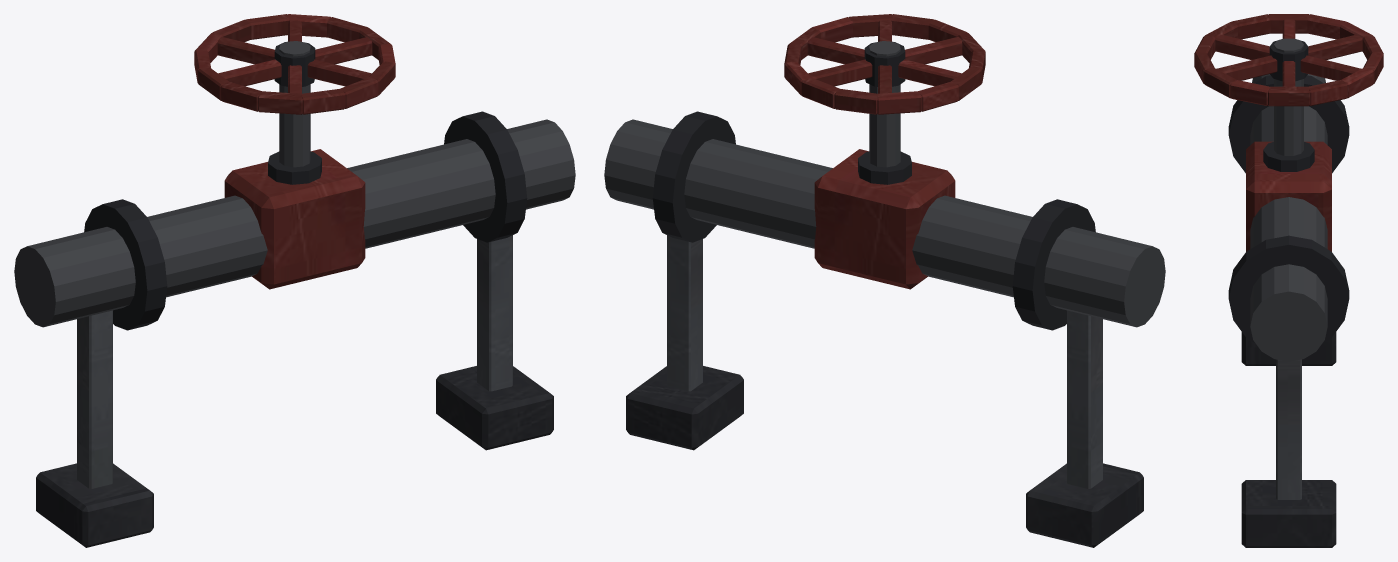
Rendered from valve_wheel.glb.
3 renders of one model, left to right at view 1: azimuth 30°, elevation 25°; view 2: azimuth 150°, elevation 25°; view 3: azimuth 270°, elevation 25°, orthographic. The views are drawn at different scales.
Visible parts, largest first — view 1: body, wheel; view 2: body, wheel; view 3: body, wheel.
Part boxes in pixels (x1=…): body: x1=14, y1=41, x2=575, y2=547; wheel: x1=194, y1=14, x2=395, y2=114; body: x1=604, y1=41, x2=1165, y2=547; wheel: x1=784, y1=14, x2=985, y2=114; body: x1=1228, y1=38, x2=1349, y2=547; wheel: x1=1194, y1=14, x2=1383, y2=106.
Bounding box in the file's own units: 1.3 × 1.02 × 0.4398.
3 materials, 3 textured.
